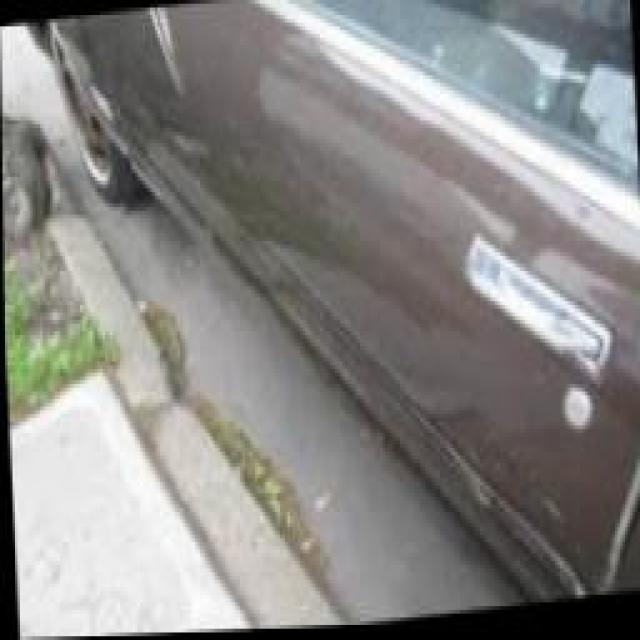Door: (104, 80, 616, 604)
